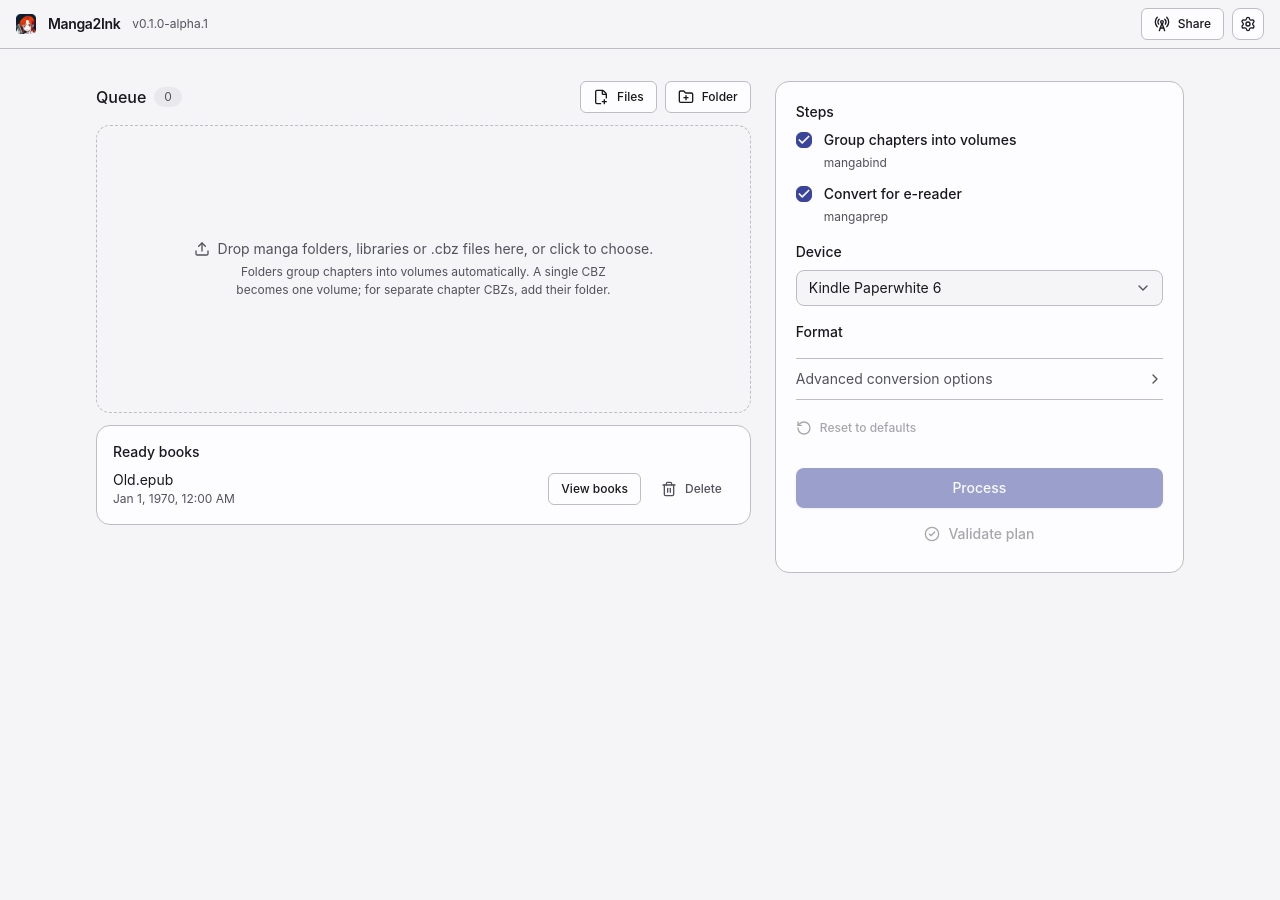
Test: queue application workflow › reads the ready books again when the app settings are closed, since the Processing tab may have deleted some
The image size is (1280, 900).
Check: the text "Old.epub" is shown, box [113,471,173,488]
Click the button named "App settings" at (1248, 24), box [1232,8,1264,40]
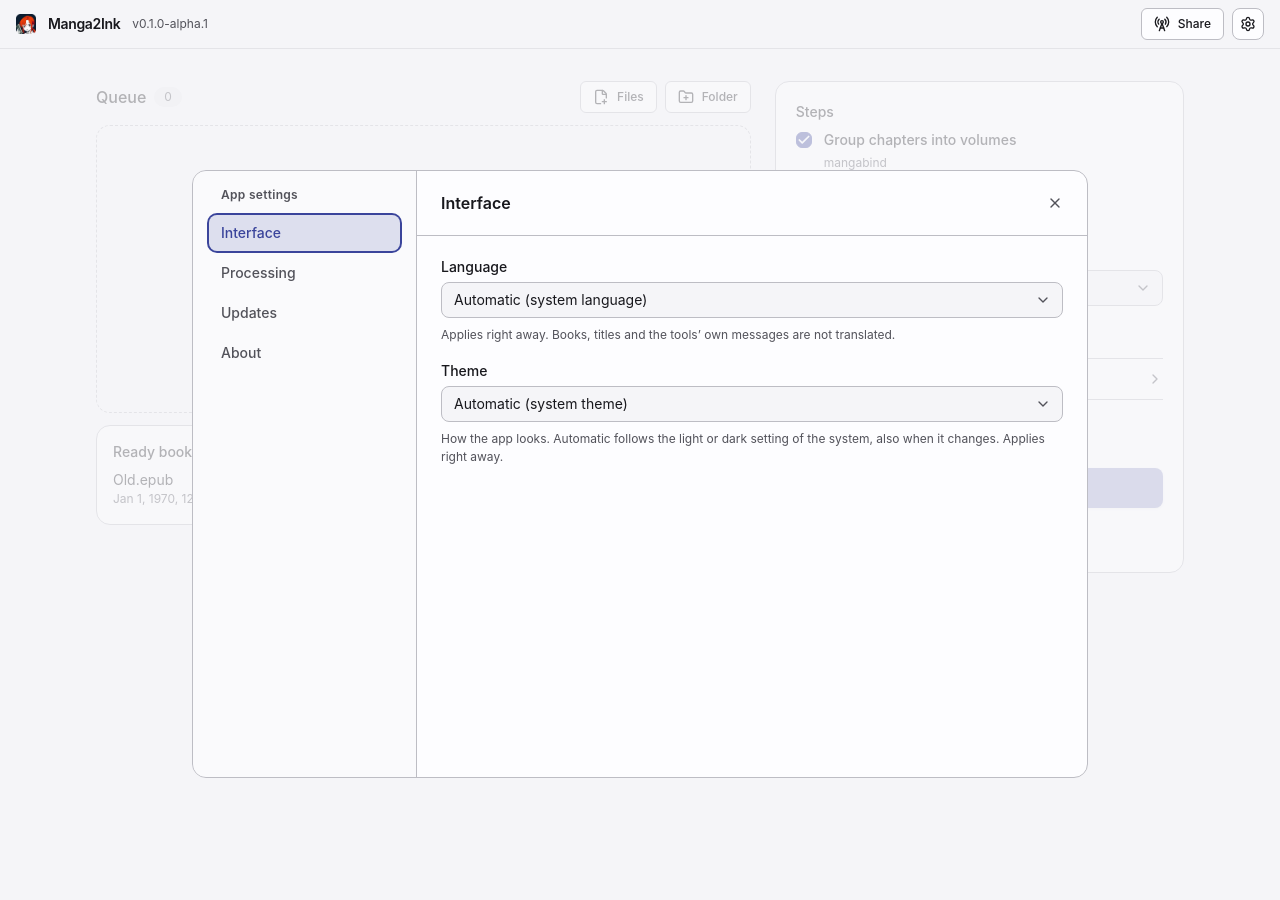
Check: the dialog is shown, box [192,170,1088,778]
Press Escape
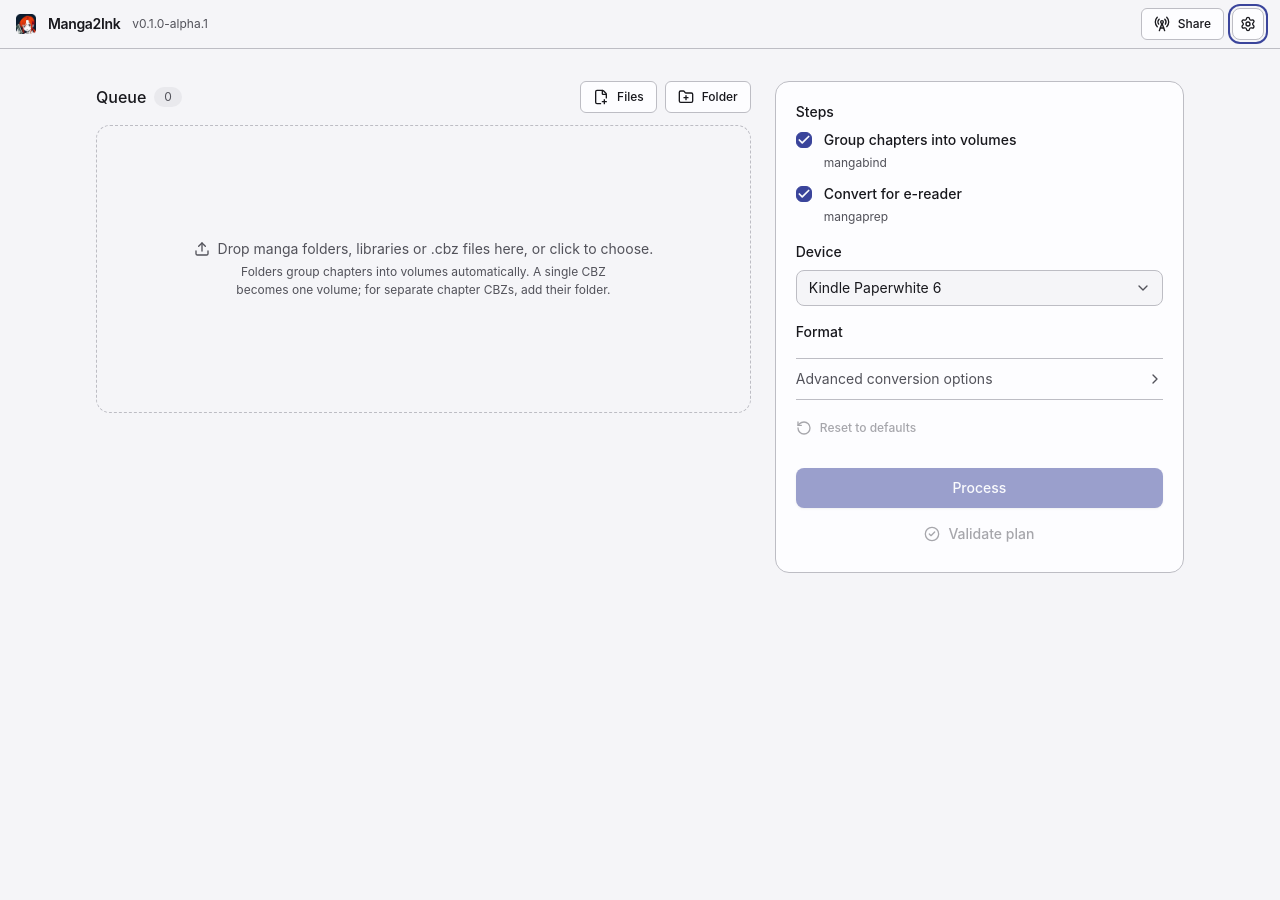
Check: the text "Old.epub" is gone
